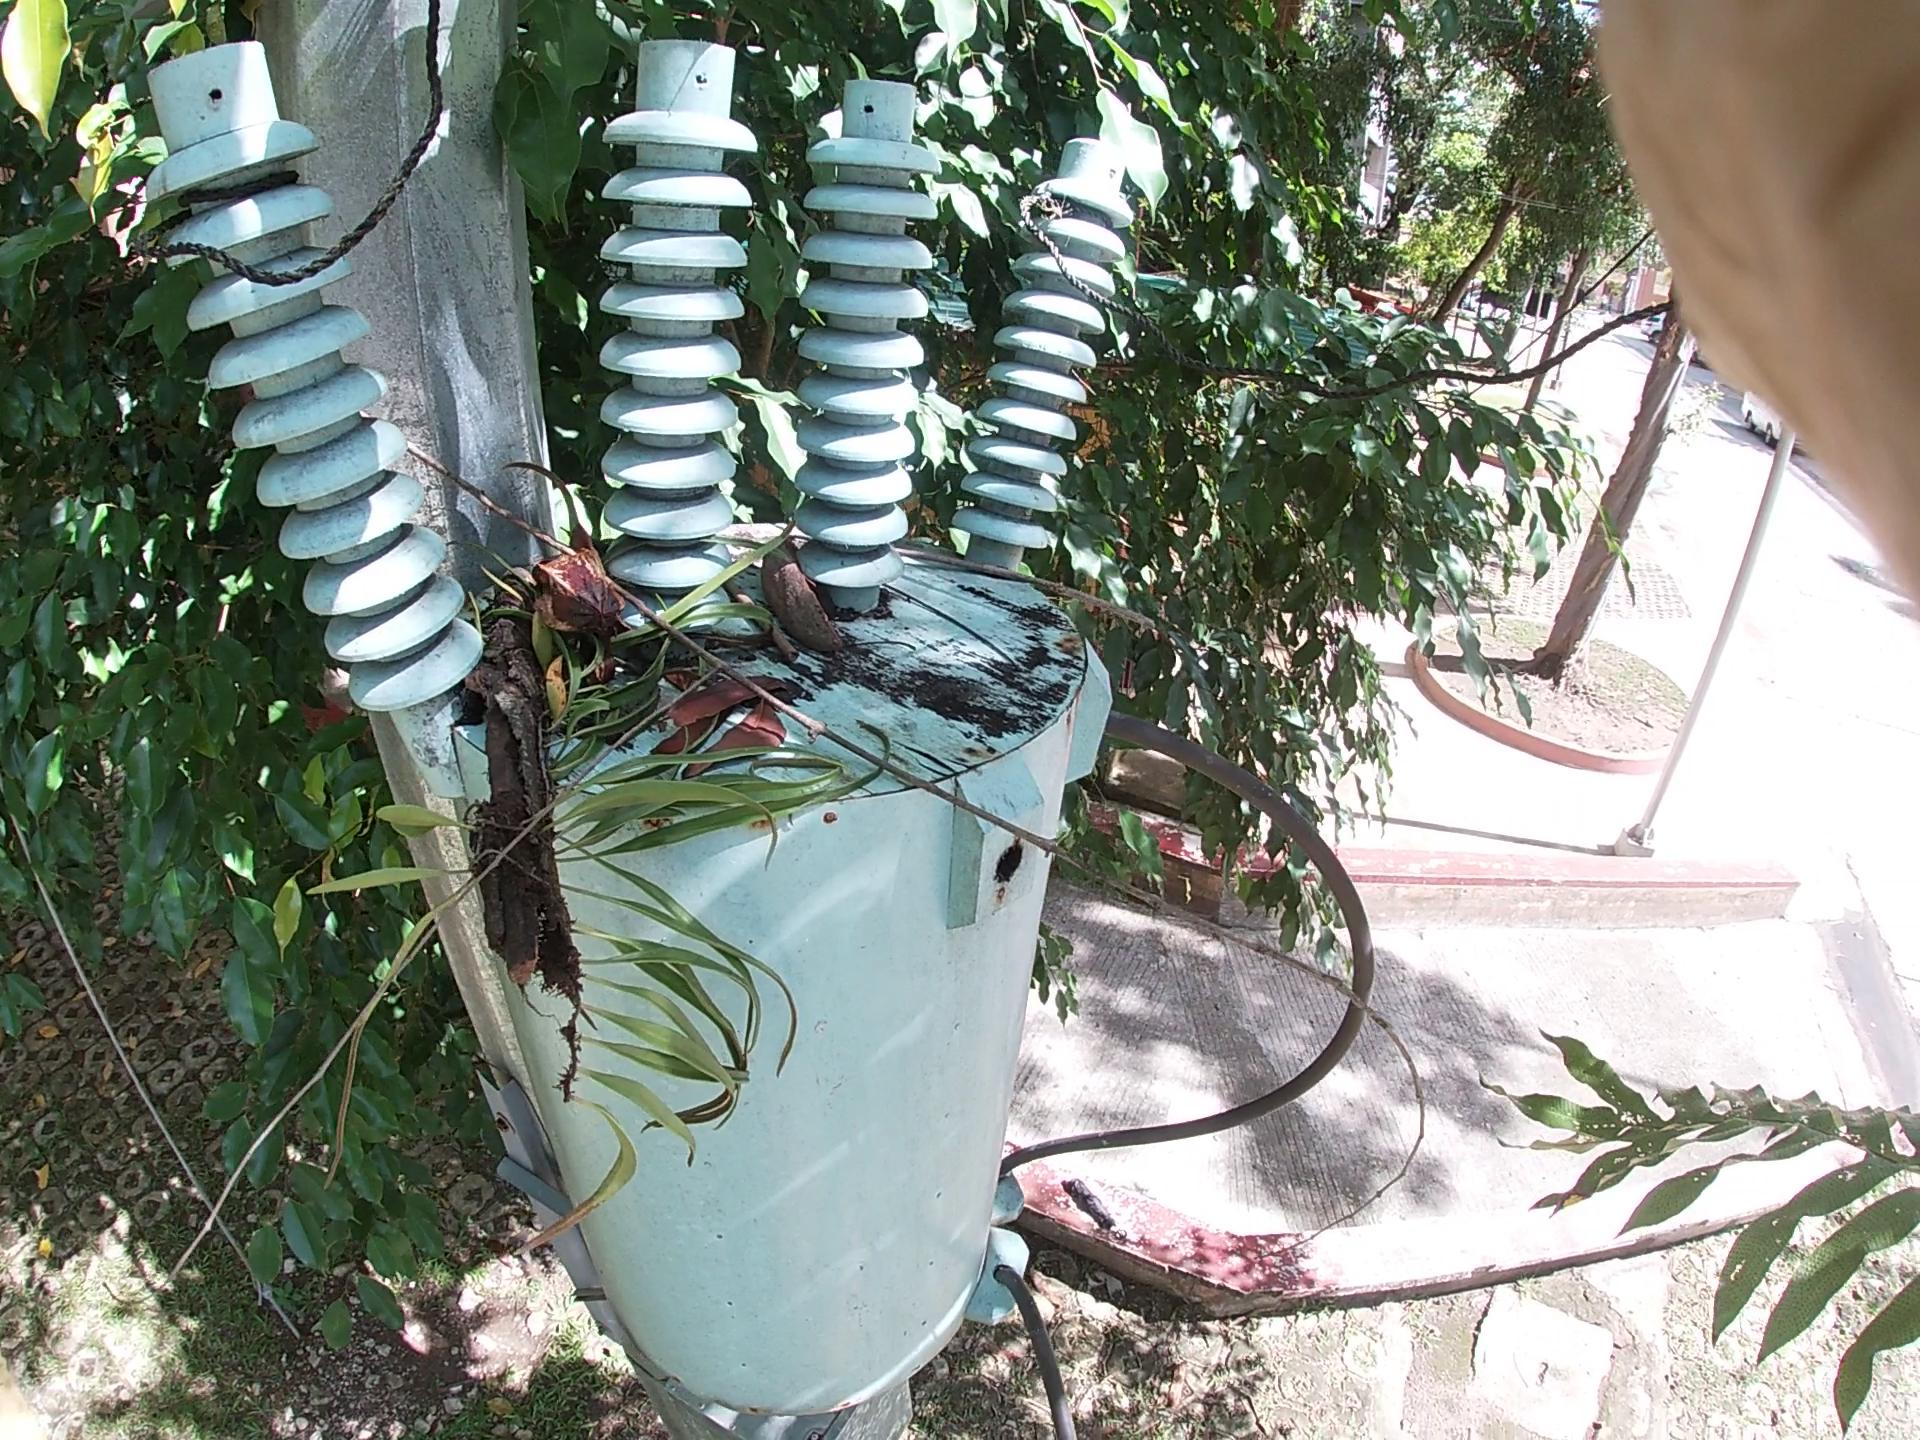branch with leaves: (475, 449, 680, 1086)
leaf: (314, 2, 1466, 507)
mahogany fruit: (750, 514, 868, 725), (537, 529, 609, 669)
tree branch: (390, 430, 1421, 1104), (881, 511, 1222, 635), (703, 535, 819, 711)
